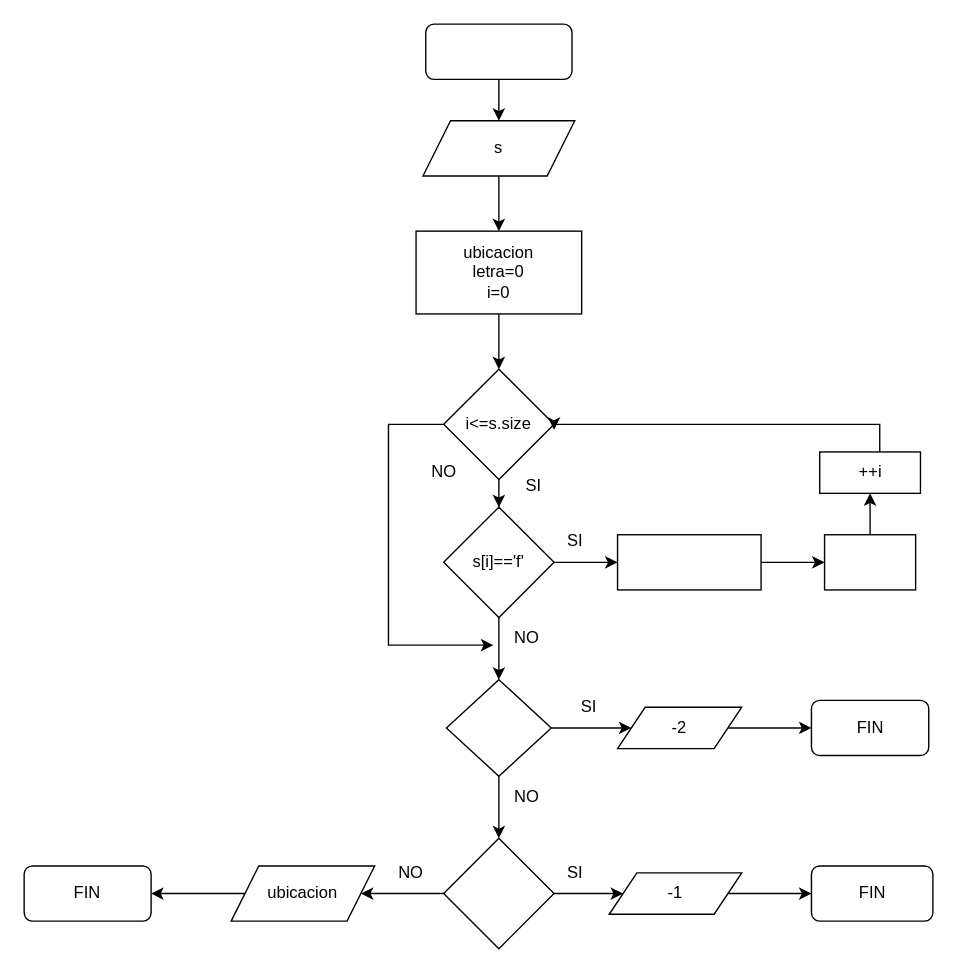
Some shapes in this 958 by 973 pixel diagram are drawn without their labels. Each missing label, with the centre of its shape:
"+letra" goes at [869,561].
"INICIO" goes at [498,51].
"letra = 0" goes at [498,727].
"letra=1" goes at [498,893].
"ubicacion = i" goes at [688,561].
